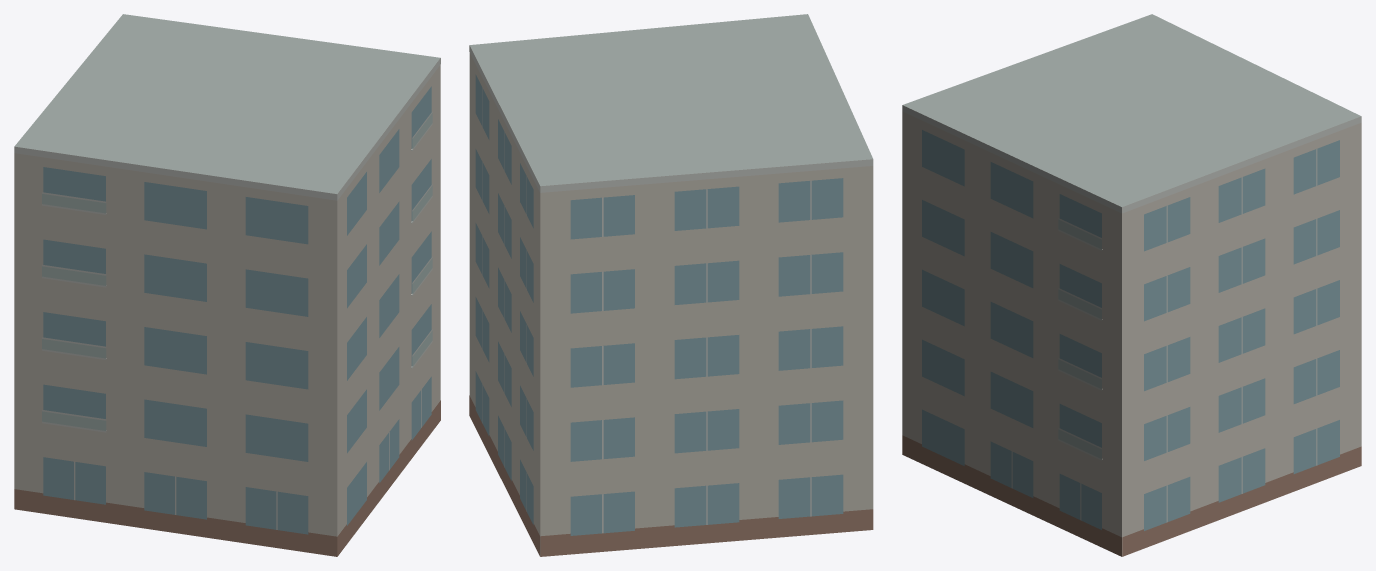
Rendered from survey-upis-32759184.glb.
3 renders of one model, left to right at view 1: azimuth 30°, elevation 25°; view 2: azimuth 150°, elevation 25°; view 3: azimuth 270°, elevation 25°, orthographic. The views are drawn at different scales.
Visible parts, largest first — view 1: survey-upis-32759184.tmp; view 2: survey-upis-32759184.tmp; view 3: survey-upis-32759184.tmp.
Part boxes in pixels (x1,y1,x2,y2): survey-upis-32759184.tmp: (14, 14, 440, 556); survey-upis-32759184.tmp: (469, 14, 873, 556); survey-upis-32759184.tmp: (902, 14, 1361, 556).
Size of the model in its own units: 16.07 by 13.55 by 16.14.
